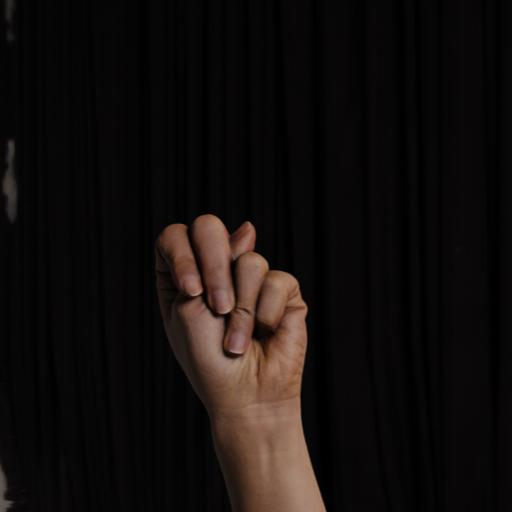N: (144, 207, 322, 442)
